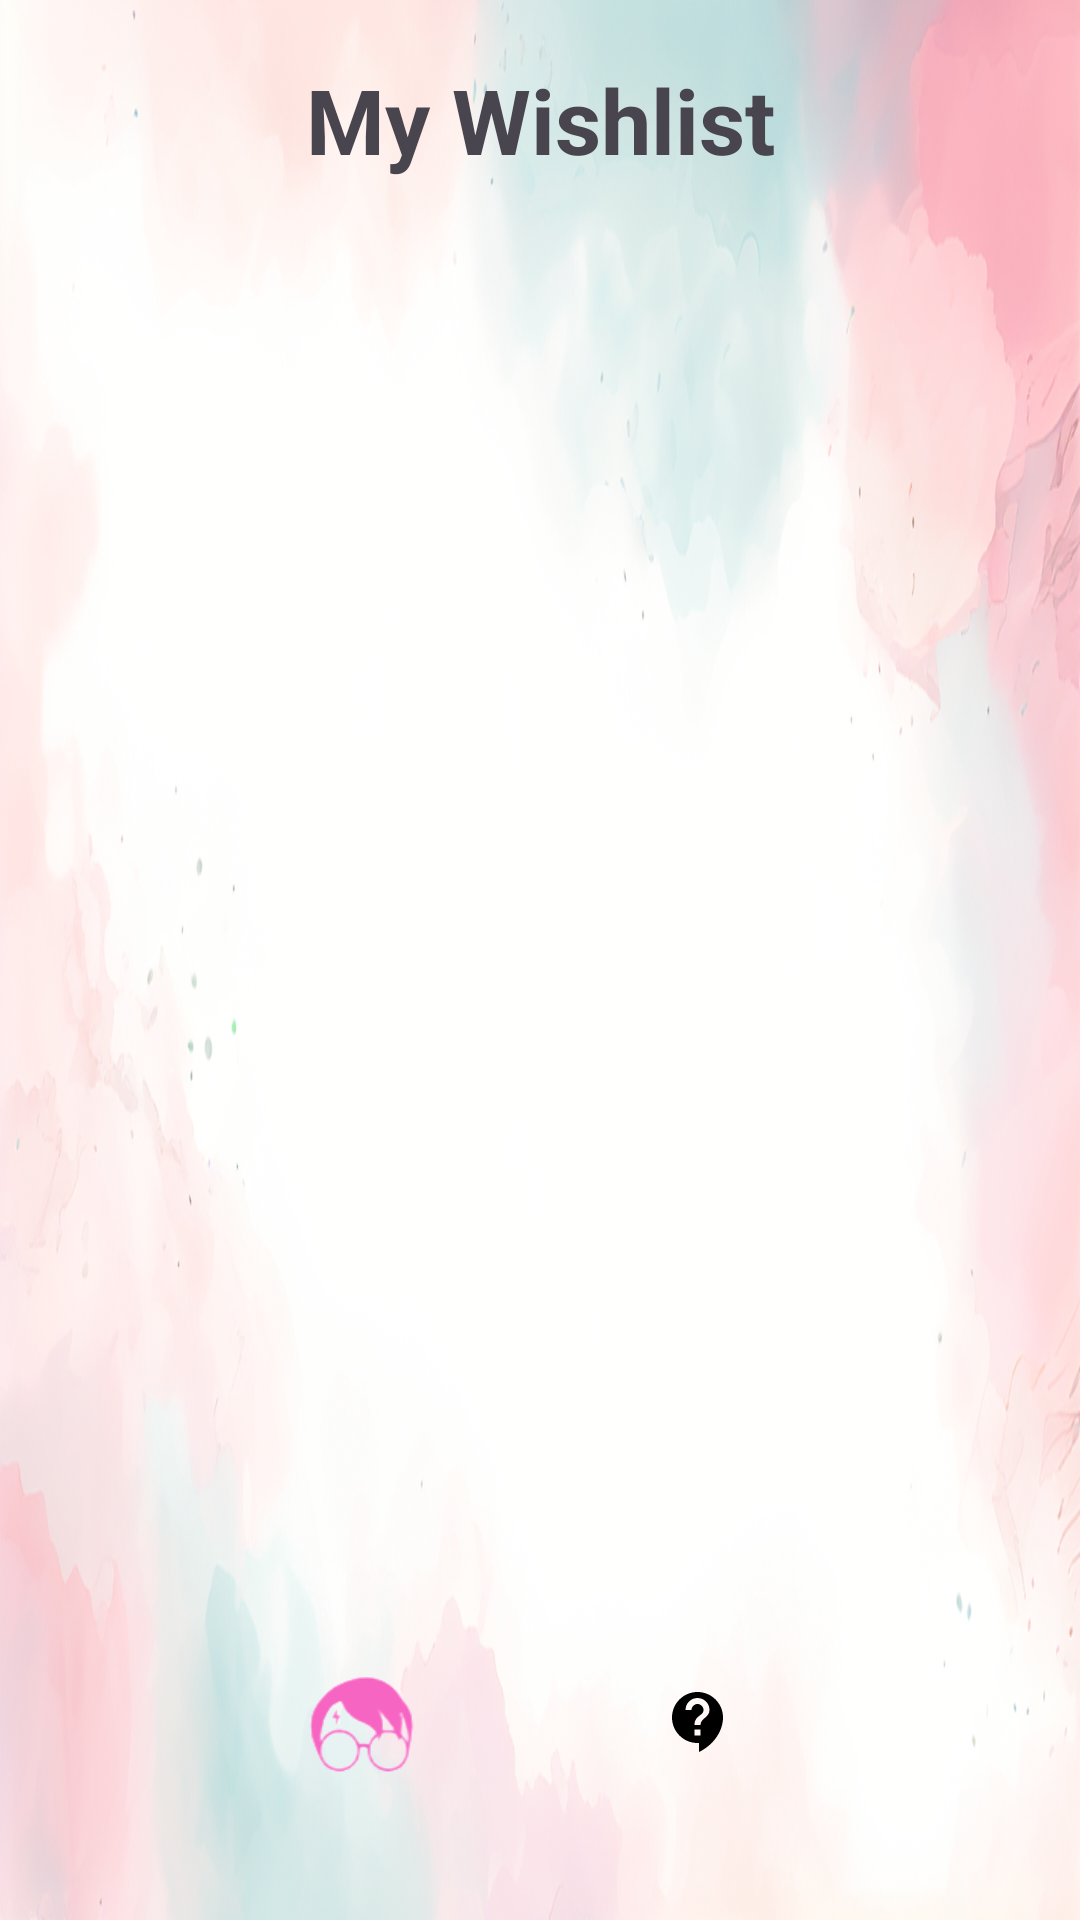

Screen size 1080×1920. Icon name, then its center in pixels as (x,y):
Customer Support: (697,1722)
